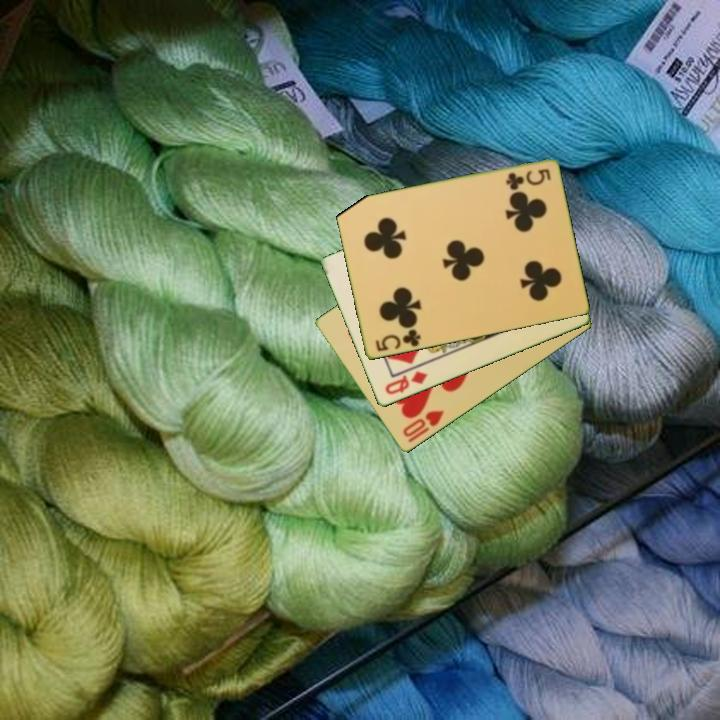10h: (399, 407, 447, 441)
5c: (372, 326, 424, 355), (502, 166, 553, 192)
Qd: (381, 368, 431, 398)
